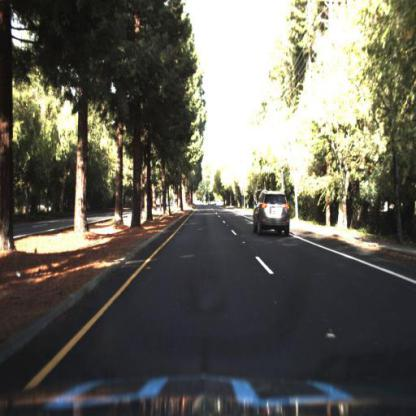car: (254, 191, 292, 237)
